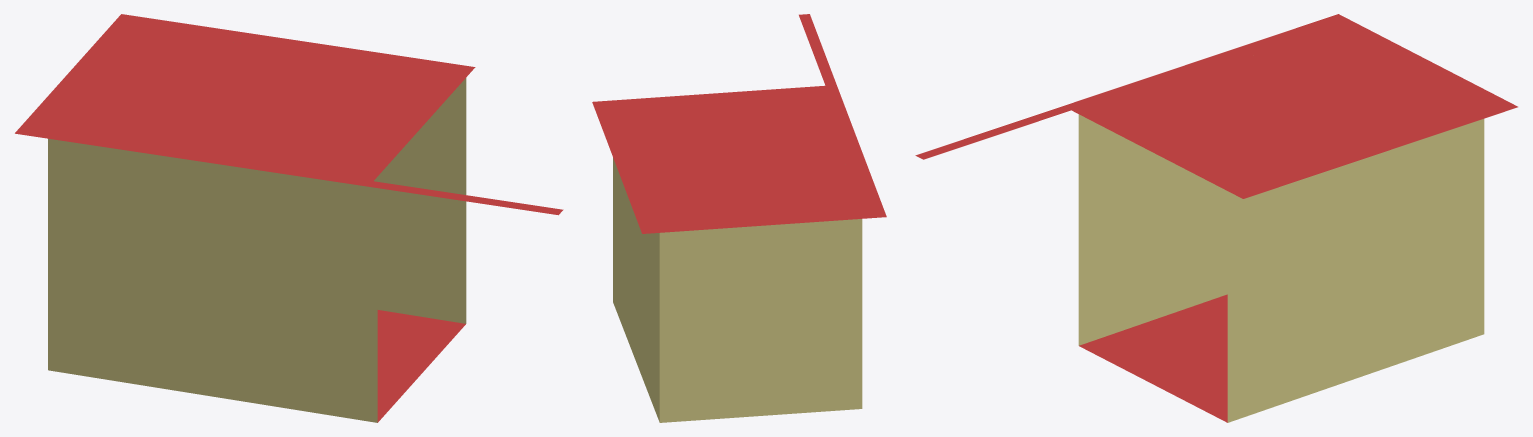
3 renders of one model, left to right at view 1: azimuth 30°, elevation 25°; view 2: azimuth 150°, elevation 25°; view 3: azimuth 270°, elevation 25°, orthographic. The views are drawn at different scales.
Size of the model in its own units: 9.11 by 12.34 by 5.27.
